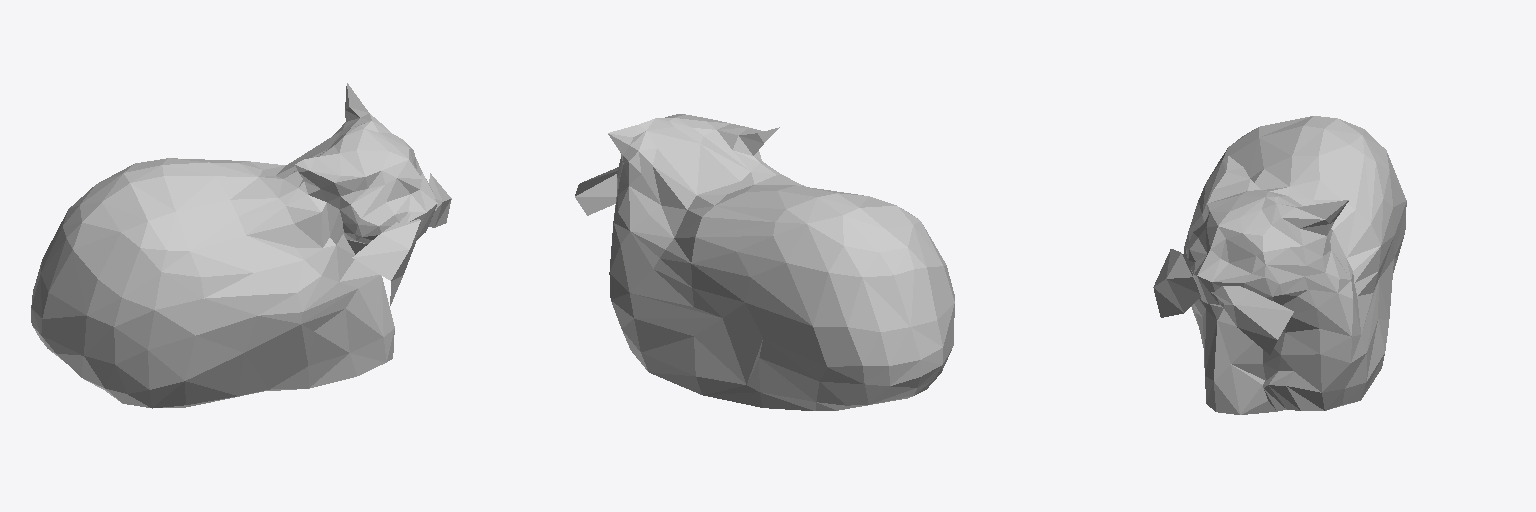
Rendered from raulito.obj.
3 views of the same model, side by side, from view 1: azimuth 30°, elevation 25°; view 2: azimuth 150°, elevation 25°; view 3: azimuth 270°, elevation 25° (orthographic).
Visible parts, largest first — view 1: Maxwell; view 2: Maxwell; view 3: Maxwell.
Boxes of the visible parts, x1,y1,x2,y2 form: Maxwell: [31, 83, 451, 408]; Maxwell: [575, 114, 954, 410]; Maxwell: [1153, 116, 1406, 414].
Bounding box in the file's own units: 33.23 × 19.21 × 18.75.